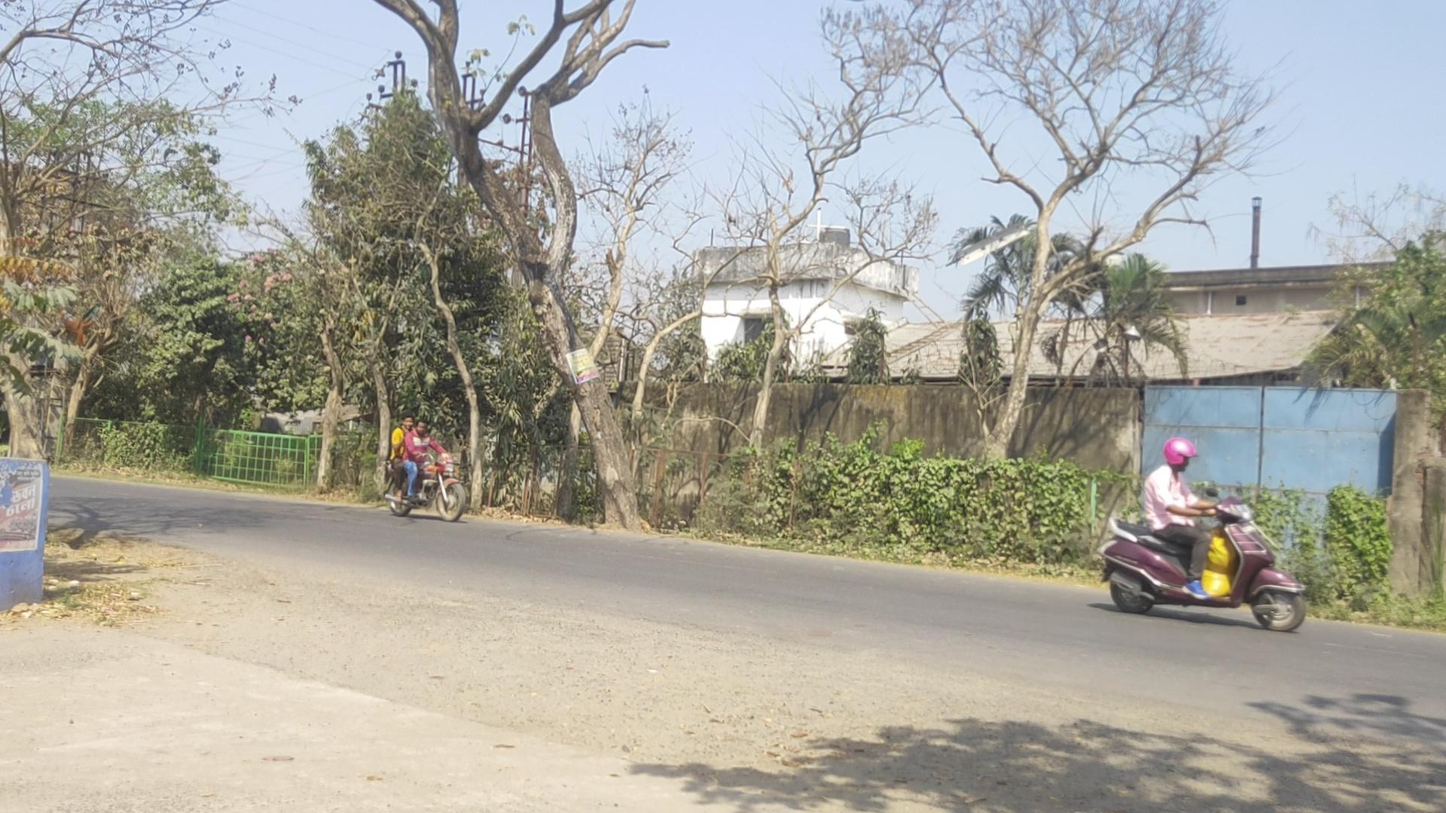bike: (1097, 437, 1306, 632), (383, 415, 466, 522)
